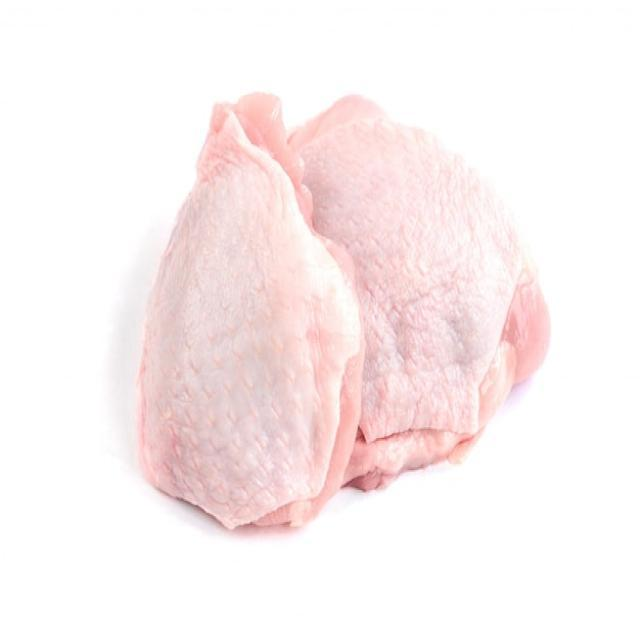thigh: (125, 88, 372, 571), (296, 90, 566, 504)
